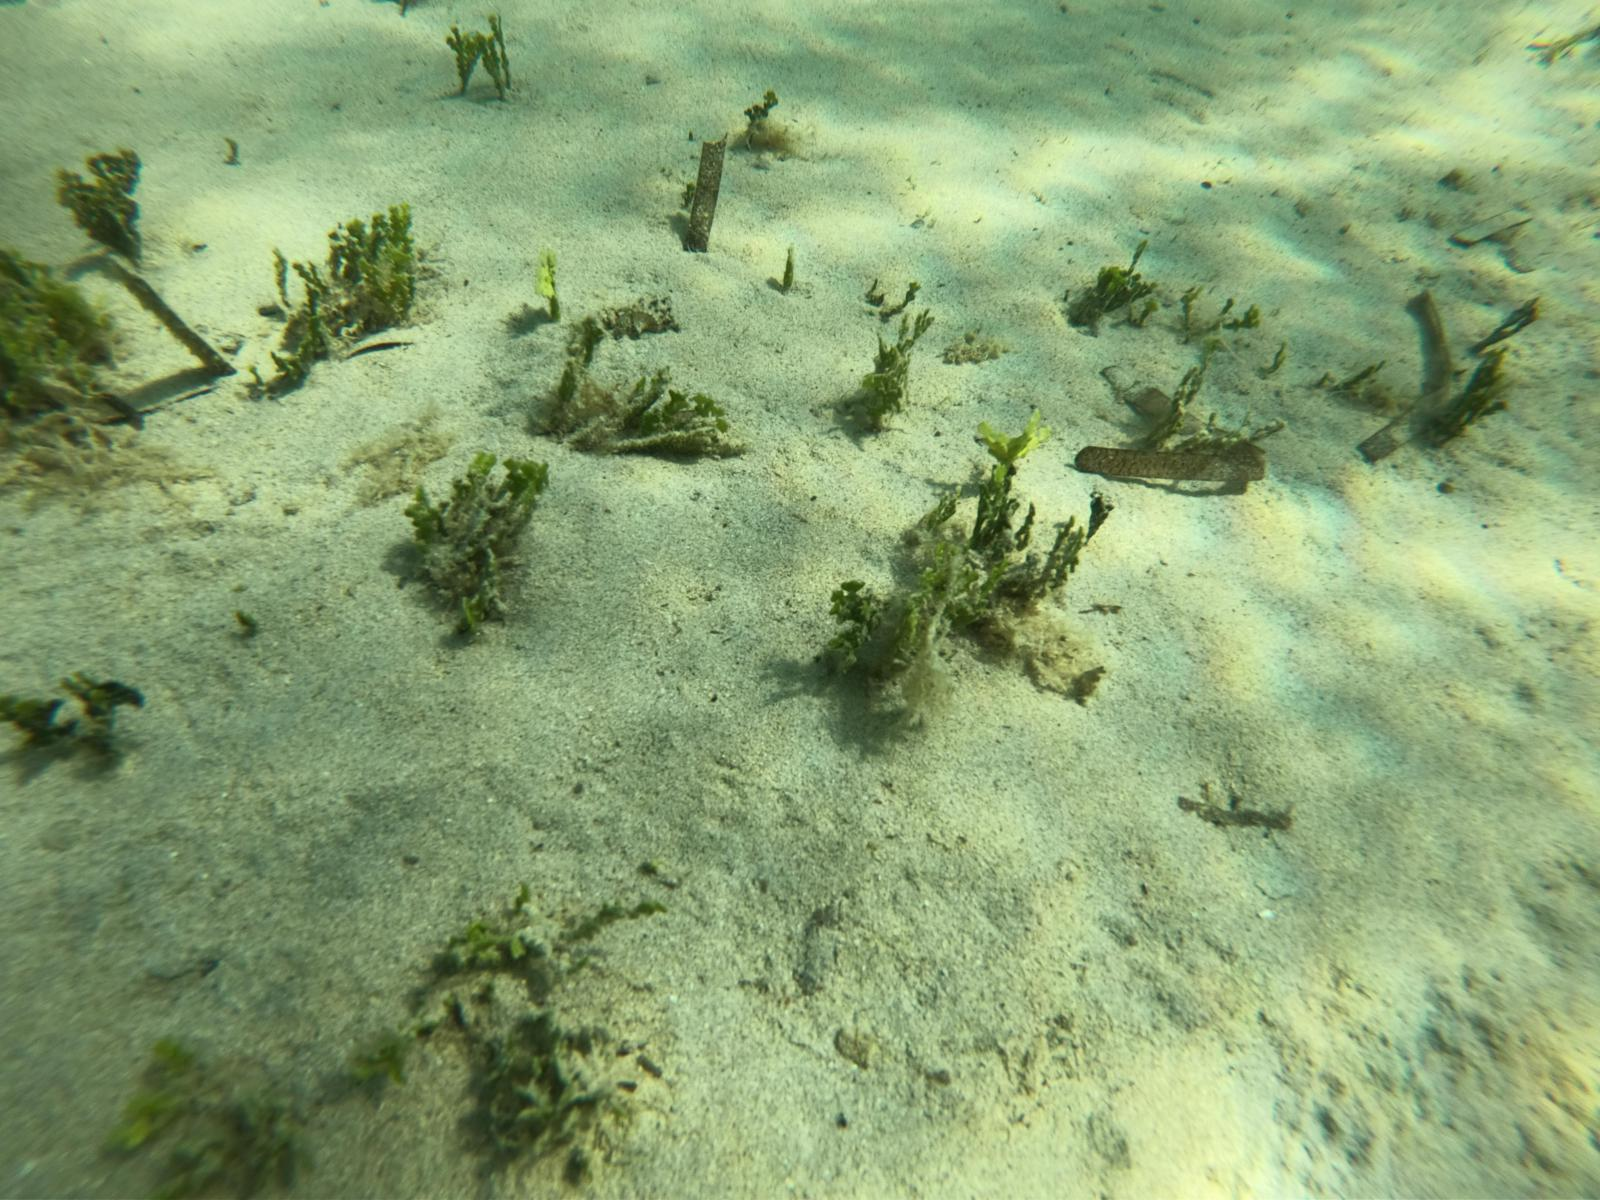halimeda: (403, 454, 554, 639), (271, 203, 417, 379), (469, 1018, 593, 1147), (1, 251, 89, 421), (971, 416, 1046, 571), (615, 369, 736, 450), (54, 150, 145, 256), (858, 311, 934, 437), (1049, 495, 1111, 587), (556, 325, 602, 432), (1159, 355, 1212, 446), (450, 16, 510, 95), (446, 921, 538, 969), (1089, 251, 1160, 310), (830, 574, 879, 642), (1169, 276, 1206, 333), (737, 89, 775, 142), (535, 247, 564, 313)
